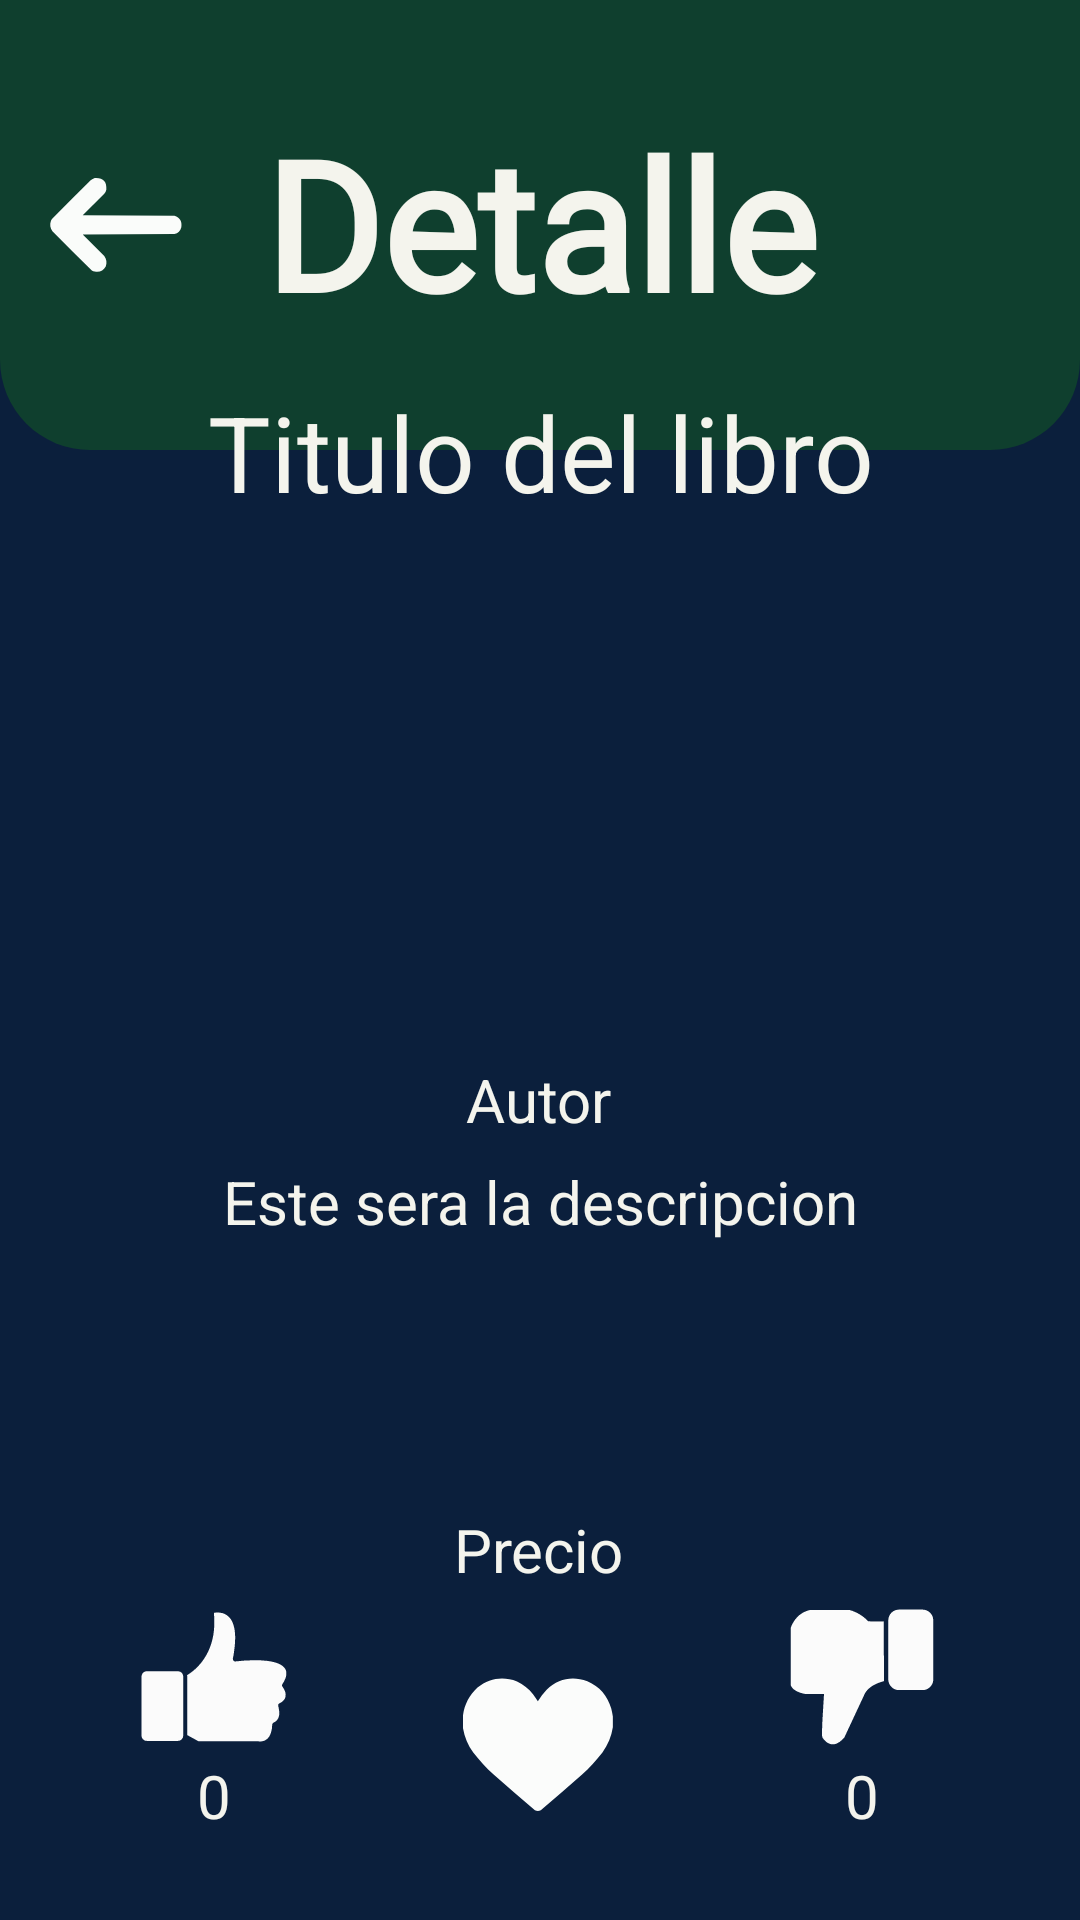

Locate icon controls on the screen. Image size 1080*1920, boxes as (x1, y1, x2, y2).
Favorito: (463, 1678, 613, 1811)
Volver: (50, 178, 182, 272)
